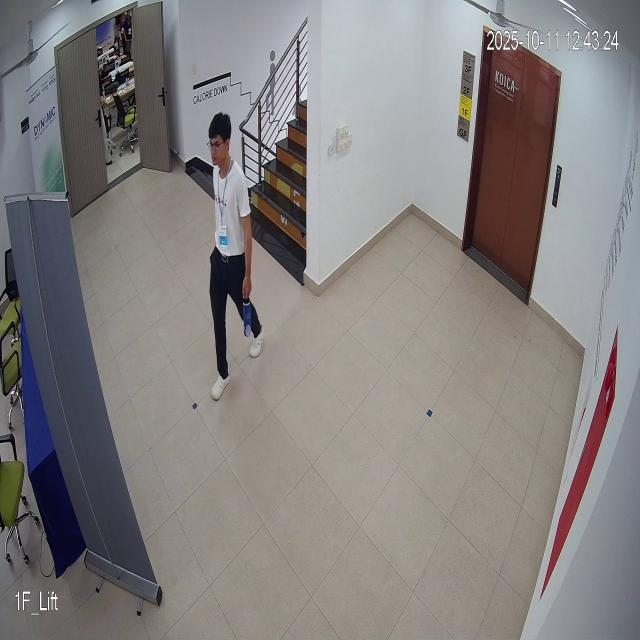face: (206, 109, 234, 172)
